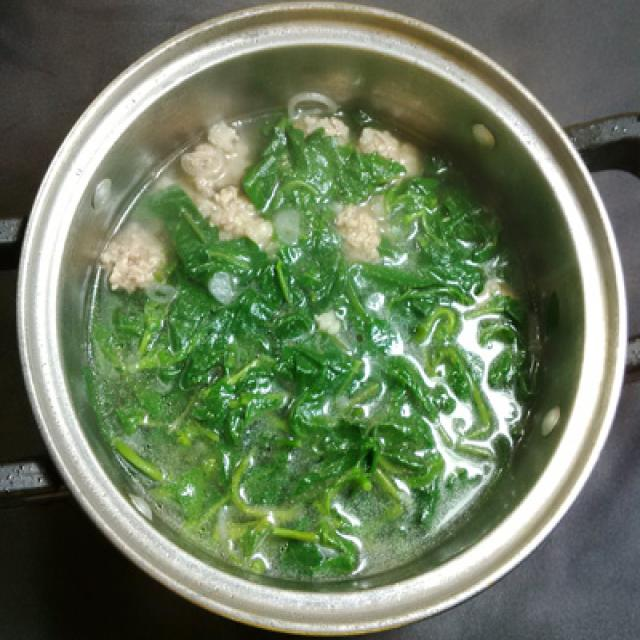canh cai: (82, 95, 581, 587)
